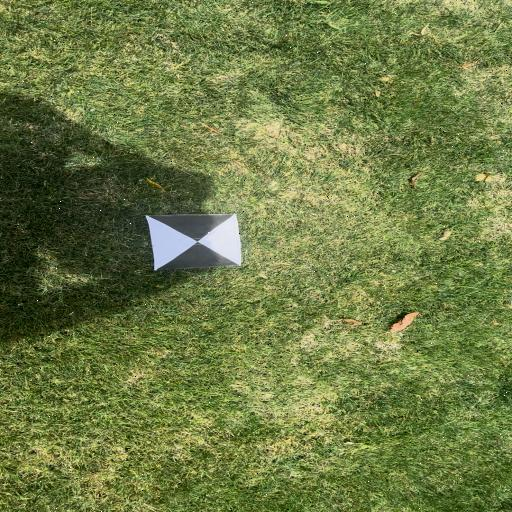target: (146, 213, 242, 270)
